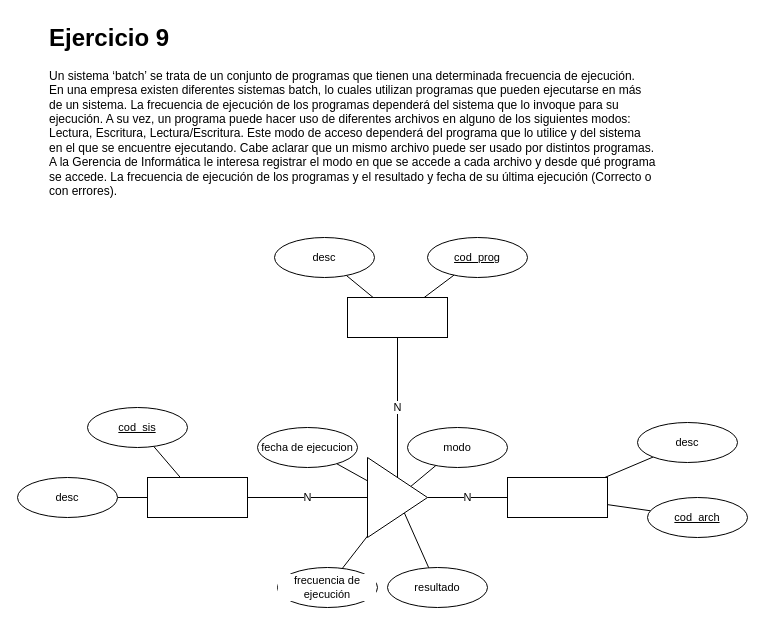
Image size: 765x625. Some labels were removed from this diagram. The centre of each missing label's shape, as x and y in pixels:
"Archivo" goes at (557,497).
"Batch" goes at (397,497).
"Programa" goes at (397,317).
"Sistema" goes at (197,497).
